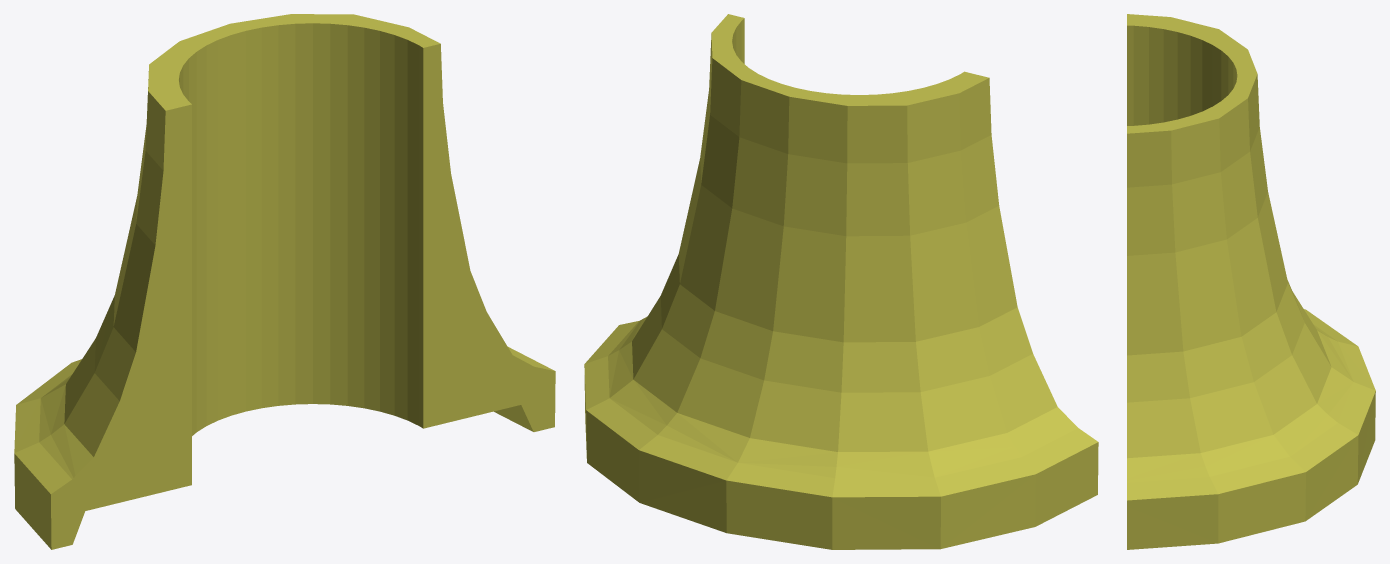
File: Bell3.glb
3 renders of one model, left to right at view 1: azimuth 30°, elevation 25°; view 2: azimuth 150°, elevation 25°; view 3: azimuth 270°, elevation 25°, orthographic. The views are drawn at different scales.
Parts seen in each view (by area): view 1: Mesh_Mesh_head_geo.001_lambert2SG.001; view 2: Mesh_Mesh_head_geo.001_lambert2SG.001; view 3: Mesh_Mesh_head_geo.001_lambert2SG.001.
Boxes of the visible parts, x1,y1,x2,y2 form: Mesh_Mesh_head_geo.001_lambert2SG.001: (14, 14, 555, 549); Mesh_Mesh_head_geo.001_lambert2SG.001: (584, 14, 1098, 549); Mesh_Mesh_head_geo.001_lambert2SG.001: (1127, 14, 1375, 549).
Bounding box in the file's own units: 28.26 × 22 × 13.53.
